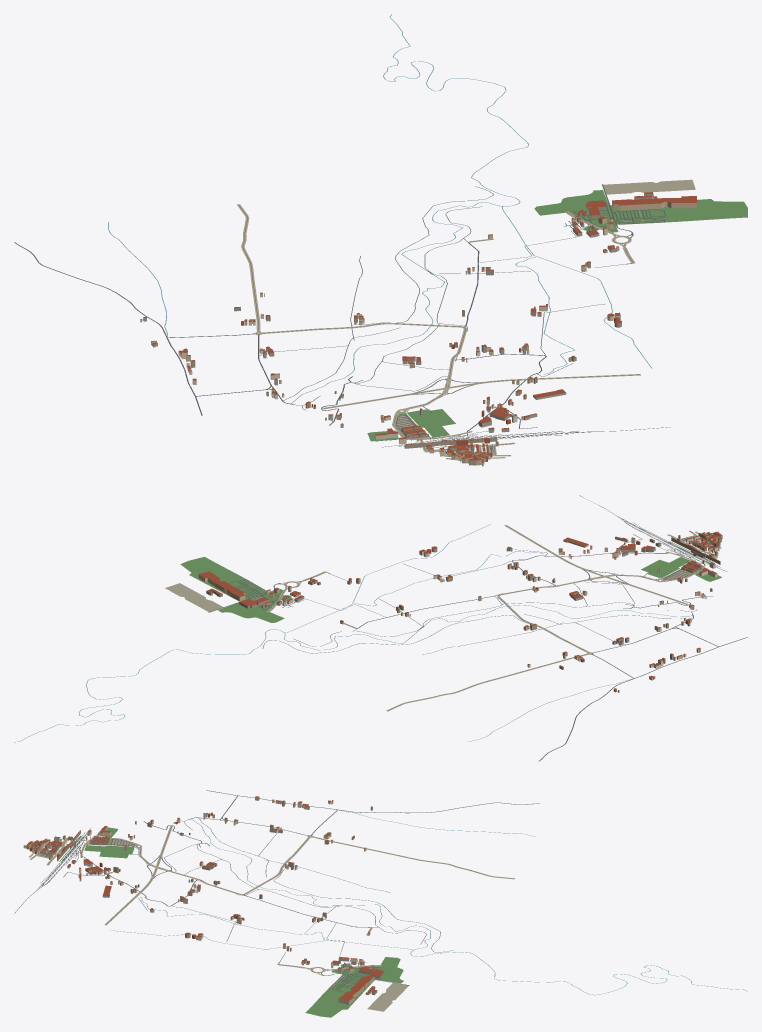
Rendered from monica.glb.
3 views of the same model, one above another, from view 1: azimuth 30°, elevation 25°; view 2: azimuth 150°, elevation 25°; view 3: azimuth 270°, elevation 25° (orthographic). The views are drawn at different scales.
Visible parts, largest first — view 1: quartiere-monica; view 2: quartiere-monica; view 3: quartiere-monica.
Boxes of the visible parts, x1,y1,x2,y2 form: quartiere-monica: (14, 14, 747, 466); quartiere-monica: (14, 495, 747, 761); quartiere-monica: (14, 790, 747, 1017).
Bounding box in the file's own units: 3248 × 32.06 × 4429.
